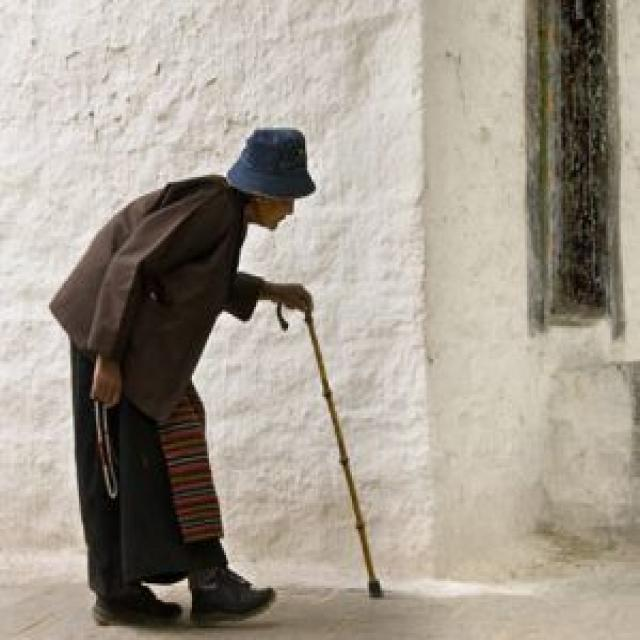idoso em pe: (49, 125, 344, 619)
